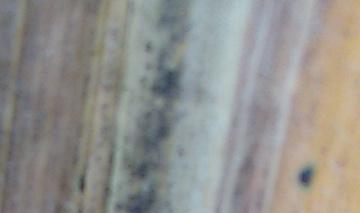tarspot: (299, 167, 314, 188), (78, 175, 87, 193)
